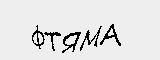А: (103, 24, 121, 45)
М: (81, 27, 99, 53)
Т: (44, 30, 60, 53)
Ф: (32, 26, 44, 50)
Я: (62, 29, 83, 54)
